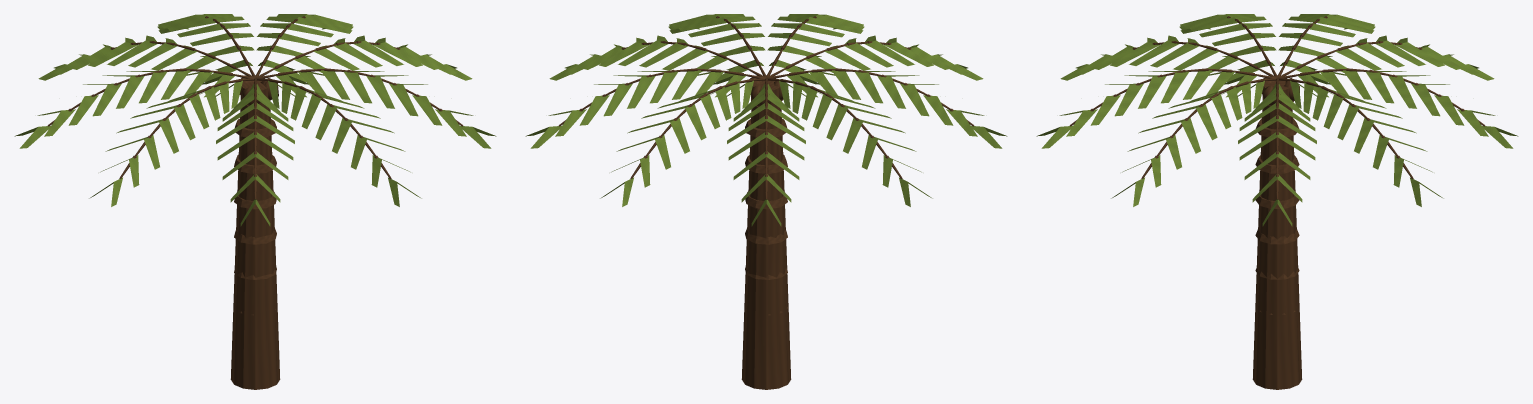
File: palm.glb
3 renders of one model, left to right at view 1: azimuth 30°, elevation 25°; view 2: azimuth 150°, elevation 25°; view 3: azimuth 270°, elevation 25°, orthographic.
Visible parts, largest first — view 1: Surface PalmFronds, Surface TropicalBark; view 2: Surface PalmFronds, Surface TropicalBark; view 3: Surface PalmFronds, Surface TropicalBark.
Part boxes in pixels (left/top/right/bottom): Surface PalmFronds: left=14, top=14, right=496, bottom=226; Surface TropicalBark: left=47, top=16, right=463, bottom=389; Surface PalmFronds: left=525, top=14, right=1007, bottom=226; Surface TropicalBark: left=558, top=16, right=974, bottom=389; Surface PalmFronds: left=1036, top=14, right=1518, bottom=226; Surface TropicalBark: left=1069, top=16, right=1485, bottom=389.
Bounding box in the file's own units: 7.31 × 5.38 × 7.43.
2 materials, 2 textured.
